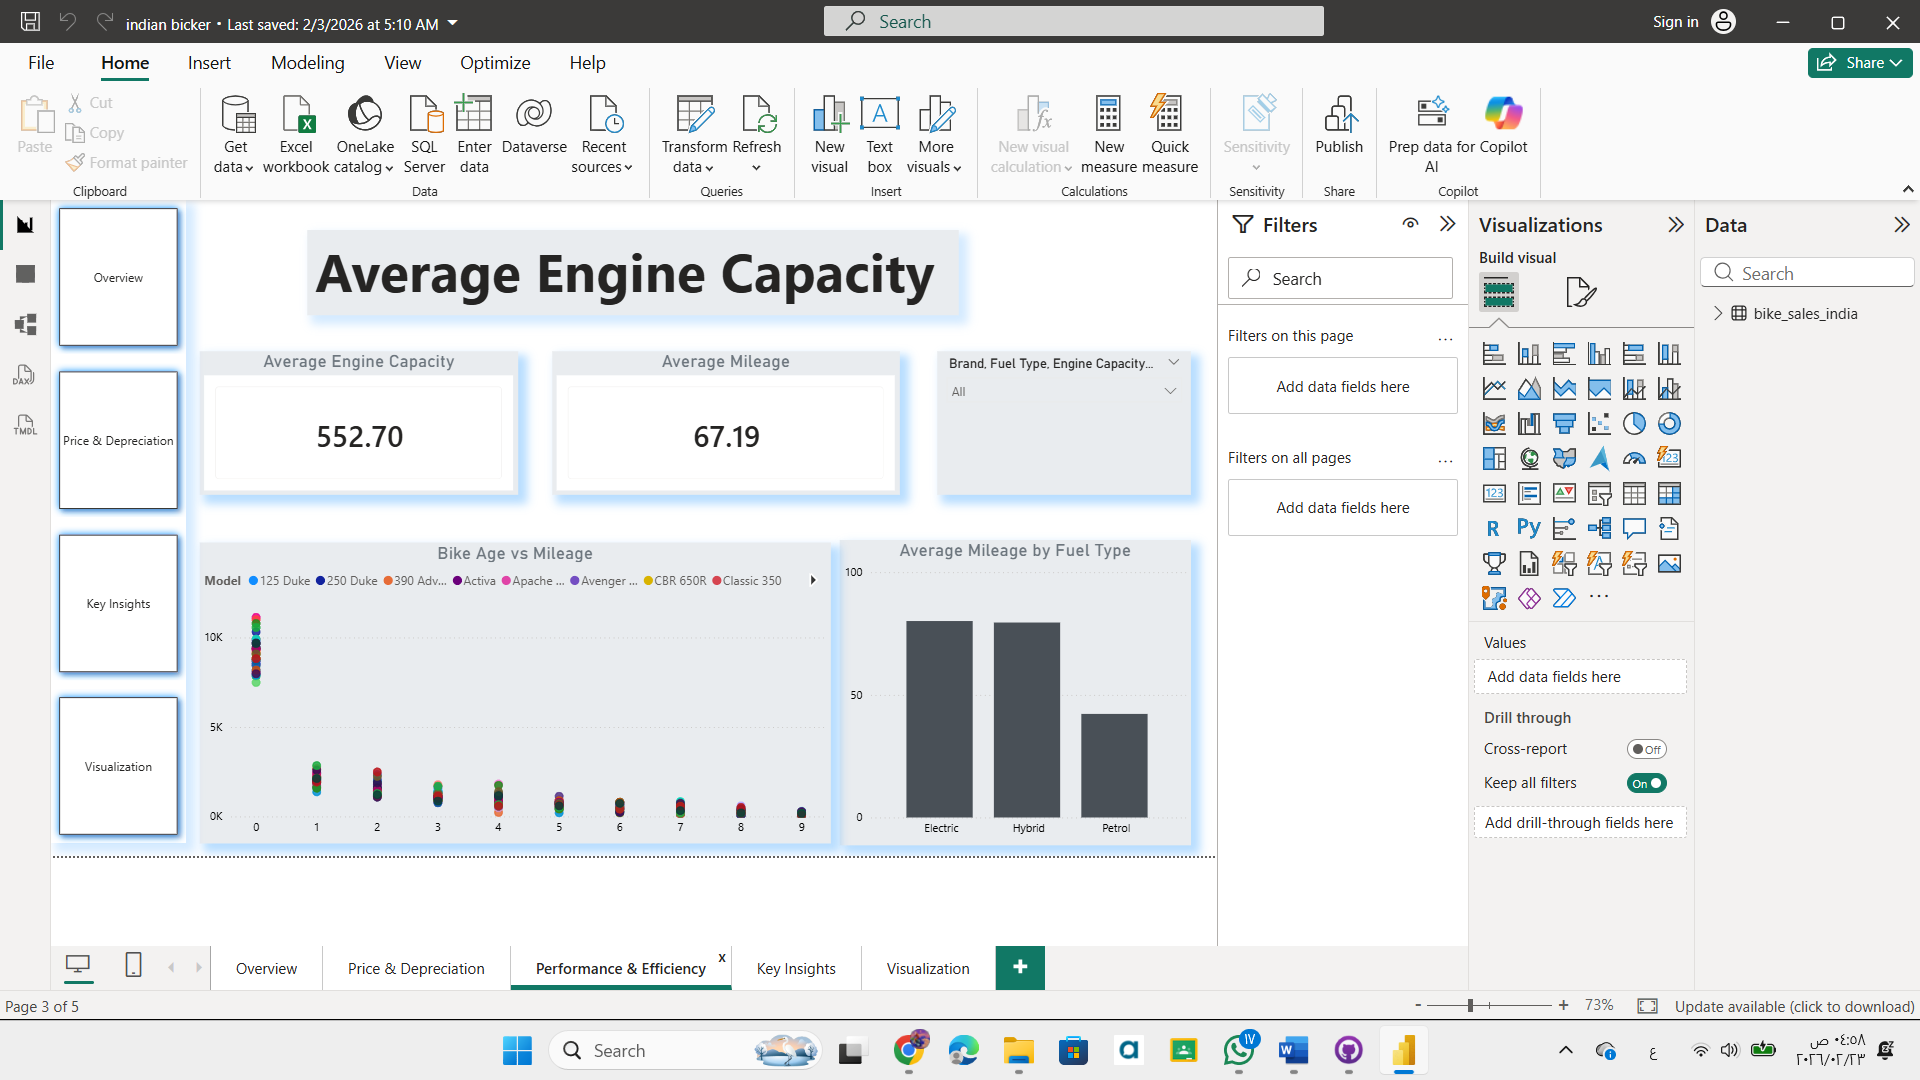

Layout of this report page (visuals, bound fields, positions):
{"tool":"powerbi","page":{"name":"Performance & Efficiency","canvas":[1280,720],"ordinal":2},"visuals":[{"type":"cardVisual","title":"Average Engine Capacity","fields":{"Data":["Avg(bike_sales_india.Engine Capacity (cc))"]},"box":[163.3,166,349.9,157.8],"z":0},{"type":"textbox","box":[281.3,32.9,714.9,93.3],"z":1000},{"type":"cardVisual","title":"Average Mileage","fields":{"Data":["Avg(bike_sales_india.Mileage (km/l))"]},"box":[550.3,166,381.5,157.8],"z":2000},{"type":"clusteredColumnChart","title":"Average Mileage by Fuel Type","fields":{"Category":["bike_sales_india.Fuel Type"],"Y":["Avg(bike_sales_india.Mileage (km/l))"]},"box":[865.9,373.2,385.6,334.8],"z":3000},{"type":"scatterChart","title":"Bike Age vs Mileage","fields":{"X":["bike_sales_india.Bike Agem"],"Y":["Sum(bike_sales_india.Mileage (km/l))"],"Series":["bike_sales_india.Model"]},"box":[163.3,376,693,330.7],"z":4000},{"type":"slicer","fields":{"Values":["bike_sales_india.Brand","bike_sales_india.Fuel Type","bike_sales_india.Engine Capacity (cc)"]},"box":[972.9,166,278.6,157.8],"z":5000},{"type":"pageNavigator","box":[0,0,148.2,706.7],"z":5001}]}

Visuals, with their boxes on the page's 1280x720 design canvas (x1, y1, x2, y2). These are canvas units, not pixel positions in the 1920x1080 screenshot, which may show the page scaled, cropped or inside an application window:
"Average Engine Capacity" cardVisual: [163, 166, 513, 324]
textbox: [281, 33, 996, 126]
"Average Mileage" cardVisual: [550, 166, 932, 324]
"Average Mileage by Fuel Type" clusteredColumnChart: [866, 373, 1252, 708]
"Bike Age vs Mileage" scatterChart: [163, 376, 856, 707]
slicer - bike_sales_india.Brand x bike_sales_india.Fuel Type: [973, 166, 1252, 324]
pageNavigator: [0, 0, 148, 707]
